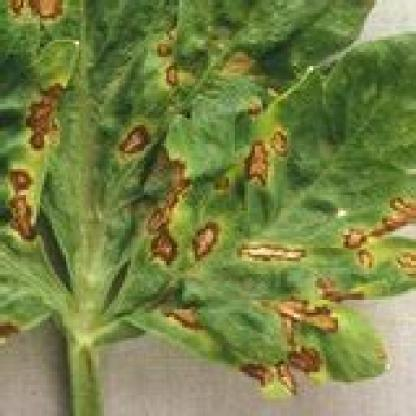black-spot: (104, 119, 234, 286), (0, 70, 76, 264), (118, 0, 236, 101), (267, 272, 343, 354), (239, 118, 294, 192)
